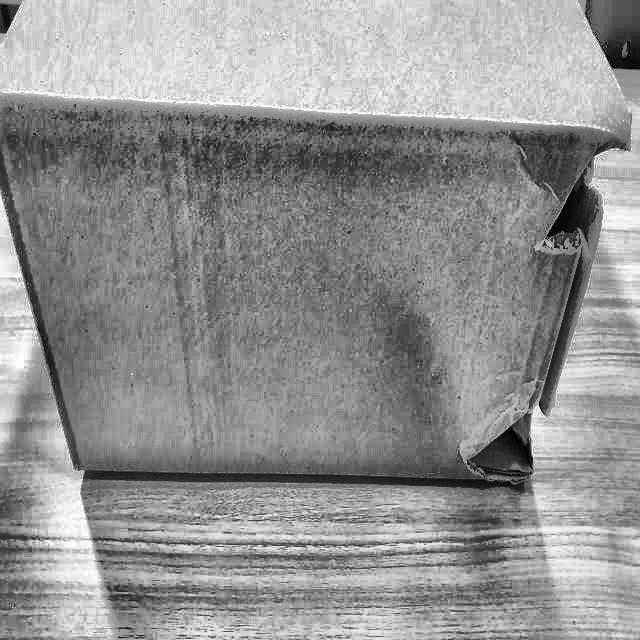box: (0, 0, 639, 499)
hole: (532, 112, 626, 261), (460, 396, 558, 494)
